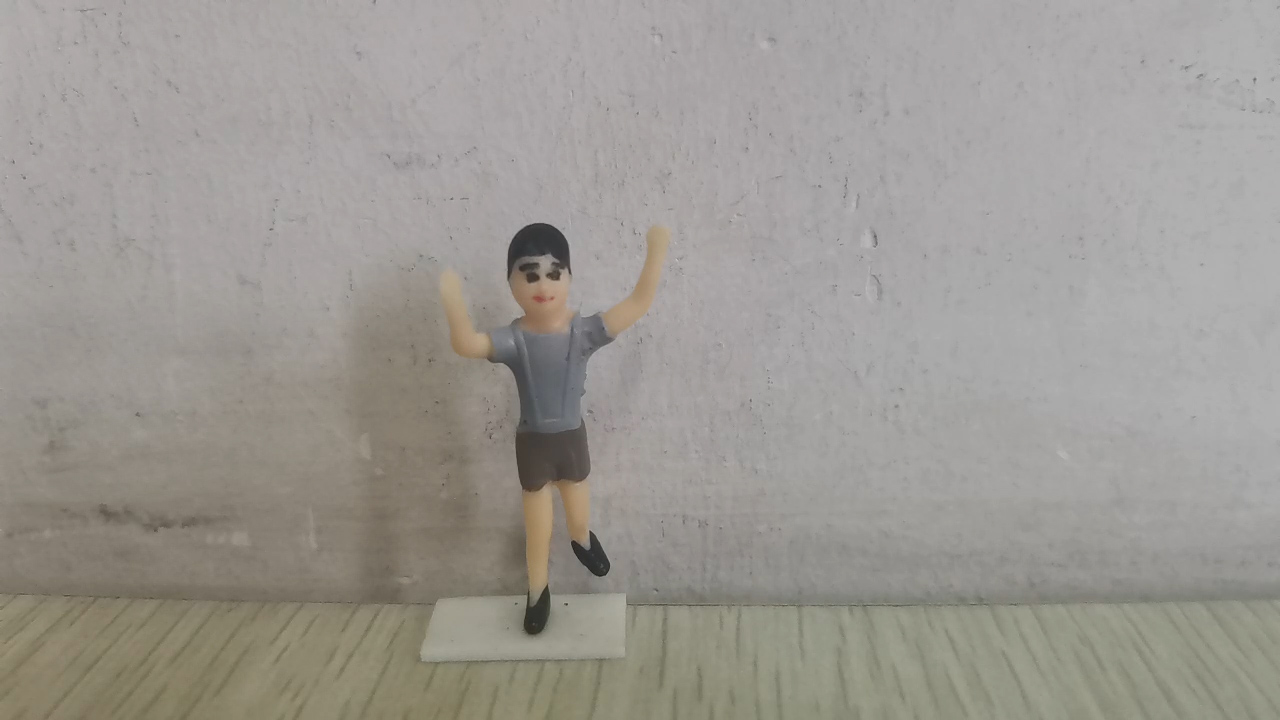person: (433, 221, 678, 638)
